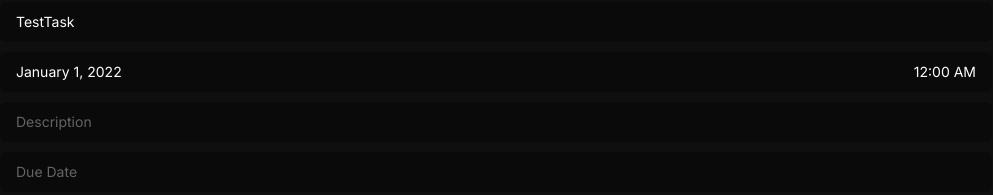
Test case: TaskDetails › Updates task description
The image size is (993, 195).
Type "test description" into the field named "description". click: {"x": 496, "y": 122}
box: [16,112,976,132]
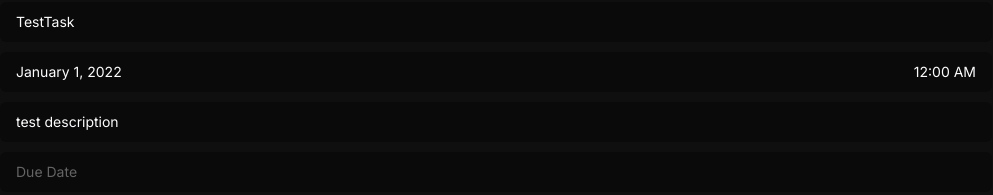
Press Enter in the field named "description", box [16,112,976,132]
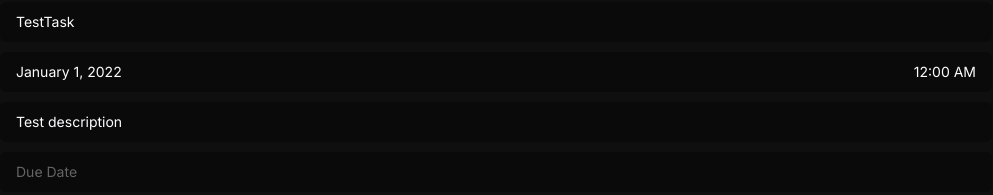
Check: the text "Test description" is shown, box [16,113,122,130]
